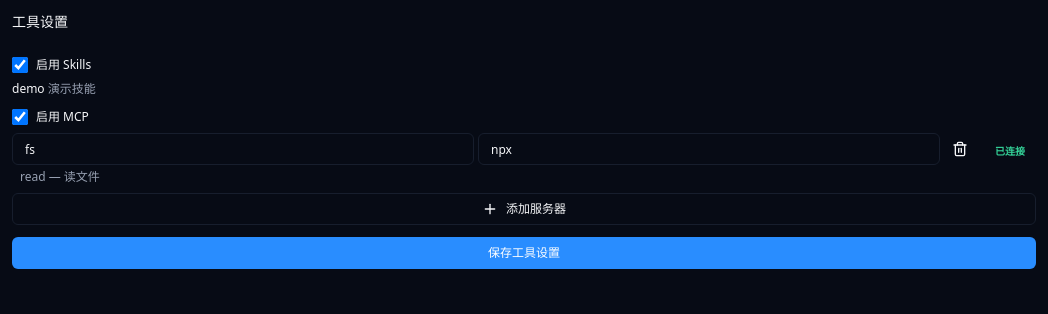
Test: ToolsPanel › saves then re-fetches status badges
expect the text "demo" is shown: met, box [12, 80, 45, 97]
Step 1. Click the button "保存工具设置" → (524, 253), box [12, 237, 1036, 269]
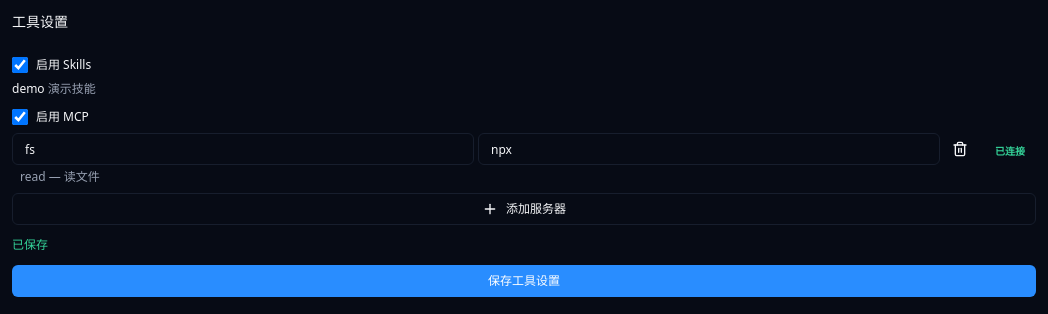
expect the text "已保存" is shown: met, box [12, 236, 48, 253]
